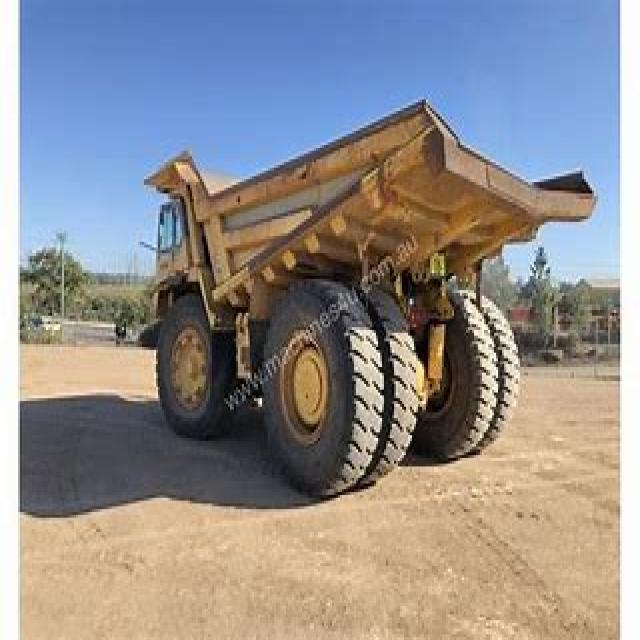dump_truck: (134, 88, 604, 495)
